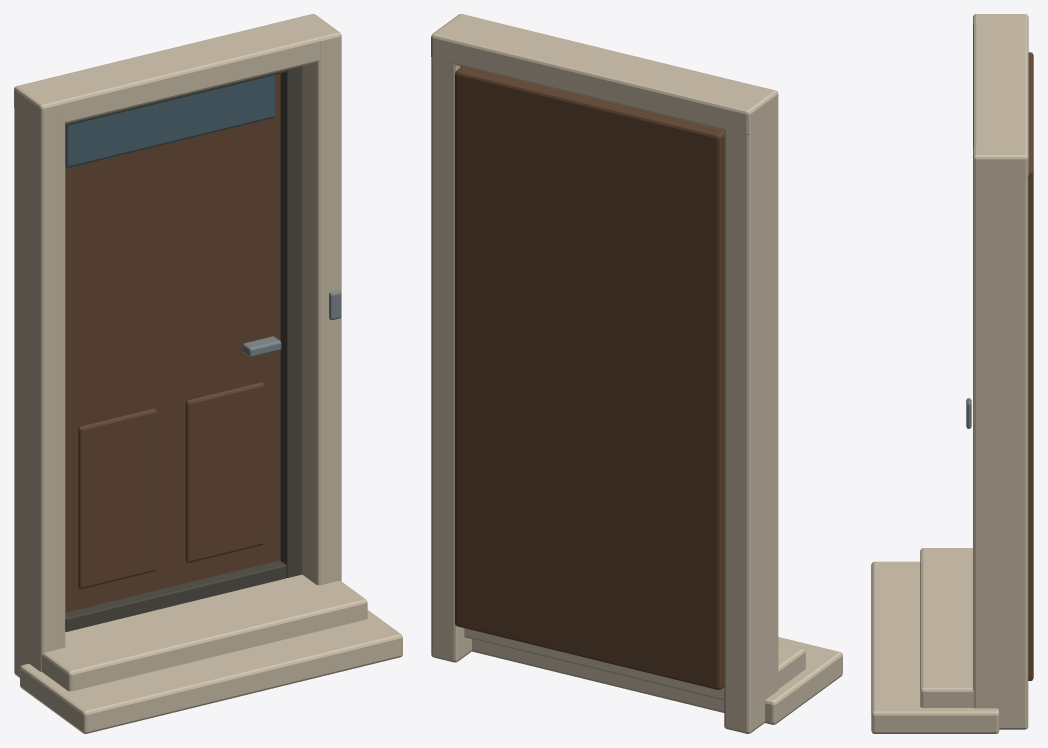
Rendered from Hauseingang_mit_Stufe.glb.
3 views of the same model, side by side, from view 1: azimuth 30°, elevation 25°; view 2: azimuth 150°, elevation 25°; view 3: azimuth 270°, elevation 25° (orthographic). The views are drawn at different scales.
Visible parts, largest first — view 1: Tuerblatt, Tuerlaibung, Tuerlaibung.001, Stufe_oben, Stufe_unten, Tuersturz, Fuellung.001, Fuellung, Tuerzarge_Pfosten.001, Oberlicht, Tuerzarge_Riegel, Tuerzarge_Riegel.001; view 2: Tuerblatt, Tuerlaibung, Tuersturz, Tuerlaibung.001, Stufe_unten, Stufe_oben; view 3: Tuerlaibung.001, Stufe_unten, Stufe_oben, Tuersturz, Tuerblatt.
Boxes of the visible parts, x1,y1,x2,y2 form: Tuerblatt: (65, 73, 280, 612); Tuerlaibung: (14, 90, 65, 677); Tuerlaibung.001: (302, 32, 341, 585); Stufe_oben: (42, 574, 367, 691); Stufe_unten: (20, 610, 402, 733); Tuersturz: (14, 14, 339, 124); Fuellung.001: (185, 382, 264, 562); Fuellung: (78, 408, 156, 588); Tuerzarge_Pfosten.001: (280, 66, 302, 577); Oberlicht: (65, 75, 275, 167); Tuerzarge_Riegel: (65, 560, 286, 631); Tuerzarge_Riegel.001: (65, 70, 286, 125); Tuerblatt: (455, 67, 724, 689); Tuerlaibung: (724, 85, 778, 733); Tuersturz: (431, 14, 777, 134); Tuerlaibung.001: (431, 14, 482, 662); Stufe_unten: (472, 637, 842, 724); Stufe_oben: (464, 628, 805, 700); Tuerlaibung.001: (973, 146, 1028, 729); Stufe_unten: (871, 561, 999, 733); Stufe_oben: (920, 548, 973, 707); Tuersturz: (973, 14, 1028, 177); Tuerblatt: (1028, 52, 1033, 680).
Bounding box in the file's own units: 1.4 × 2.46 × 0.6295.
